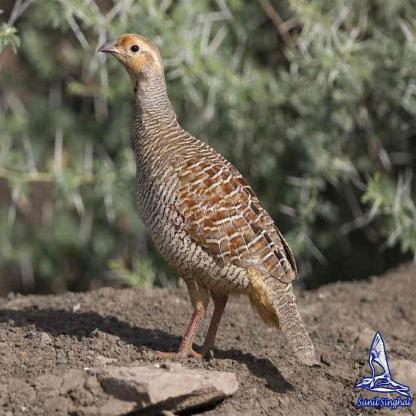Burung: (96, 33, 315, 366)
